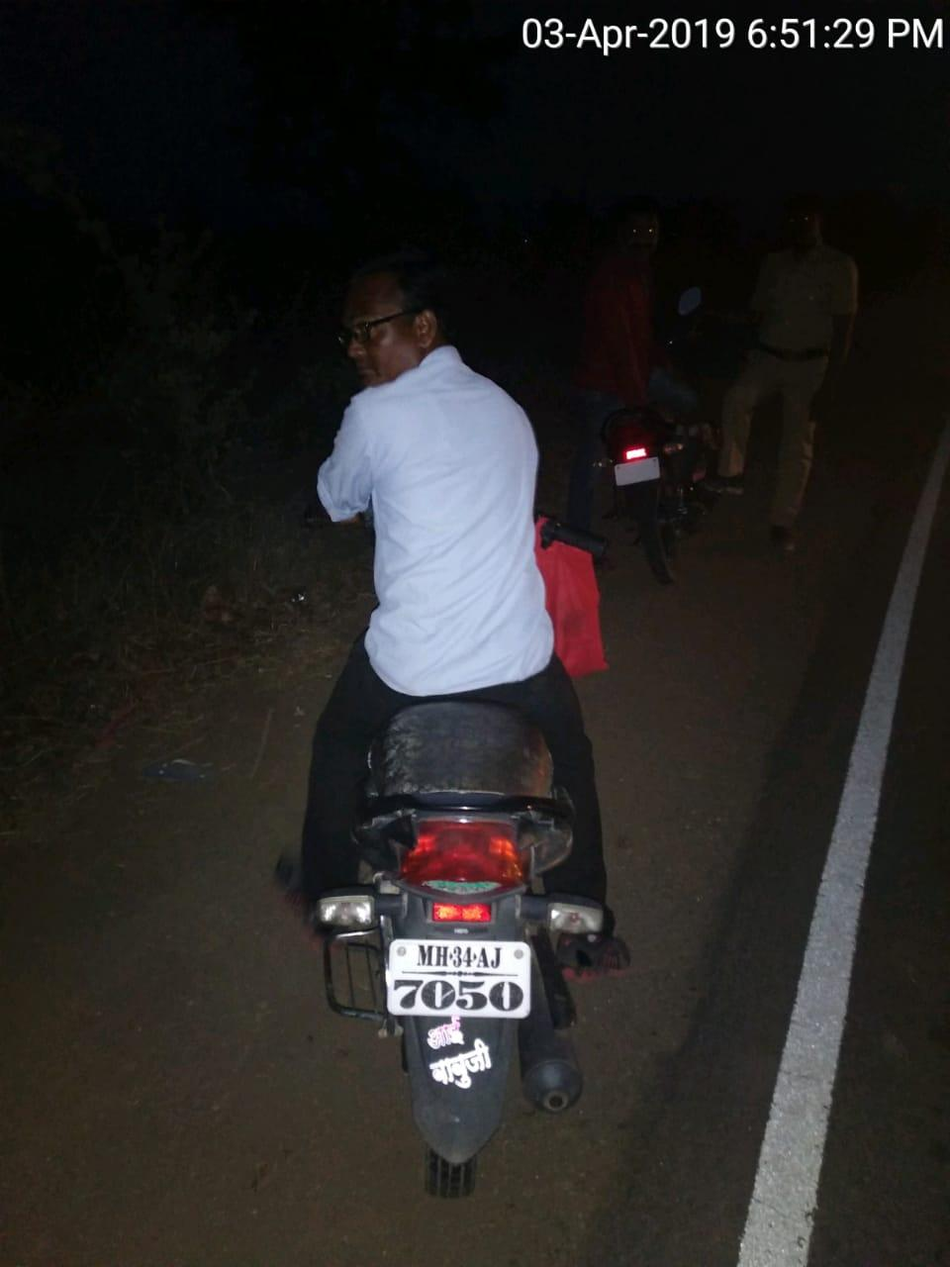plate: (370, 925, 546, 1030)
